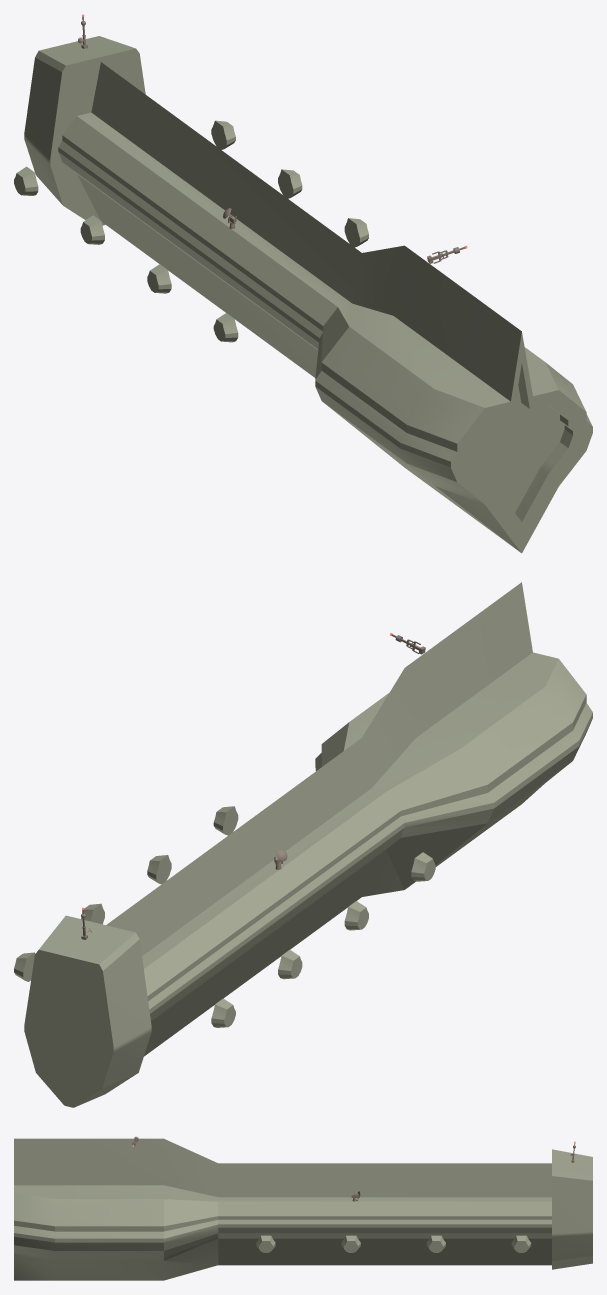
Rendered from vos_broadside.glb.
3 views of the same model, one above another, from view 1: azimuth 30°, elevation 25°; view 2: azimuth 150°, elevation 25°; view 3: azimuth 270°, elevation 25° (orthographic). The views are drawn at different scales.
Parts seen in each view (by area): view 1: hull; view 2: hull; view 3: hull.
Boxes of the visible parts, <box> form: hull: <box>14,36,592,553</box>; hull: <box>14,582,592,1107</box>; hull: <box>14,1138,592,1280</box>.
Bounding box in the file's own units: 45.6 × 47.7 × 170.
